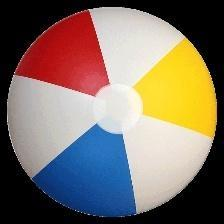Sports-Ball: (6, 5, 220, 224)
